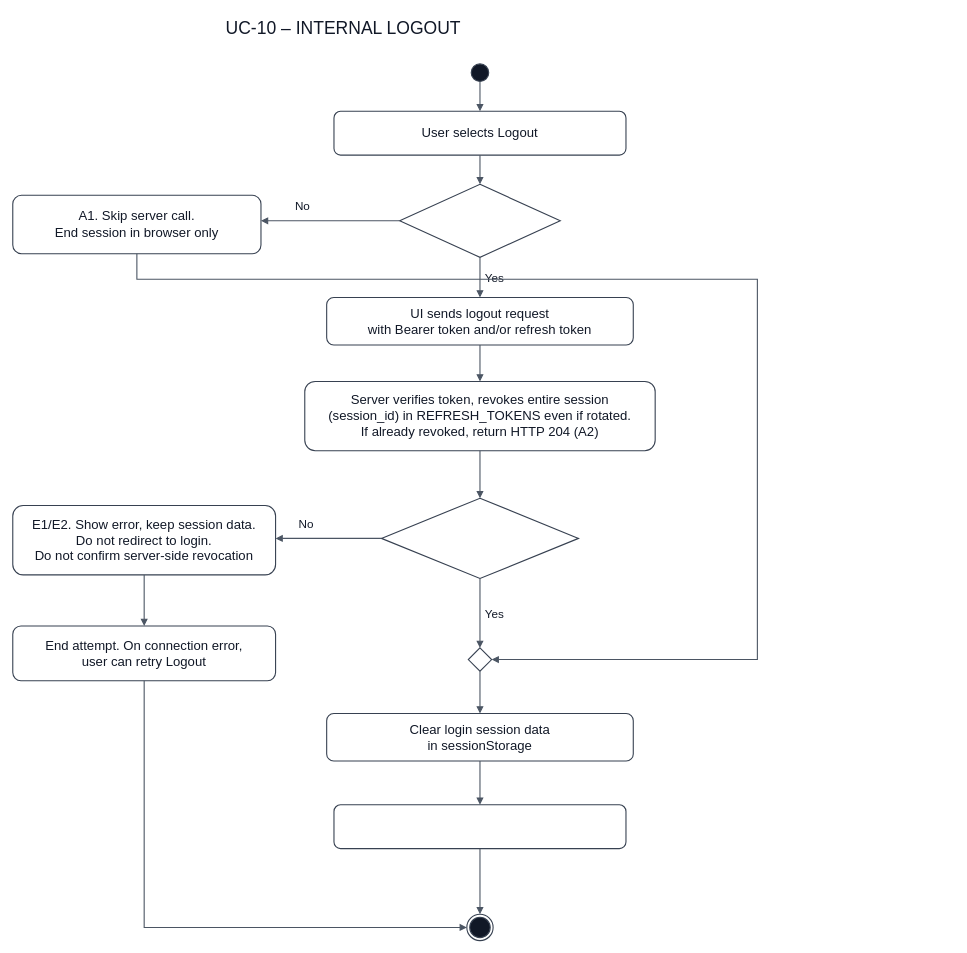
Image size: 967x953. Some labels were removed from this diagram. Here are the shapes that lost their labels. From the top down, the centre of each, then its label:
At (479,220): "Browser still has refresh token?".
At (480,538): "Received HTTP 204 success response?".
At (479,826): "Redirect to login page".
